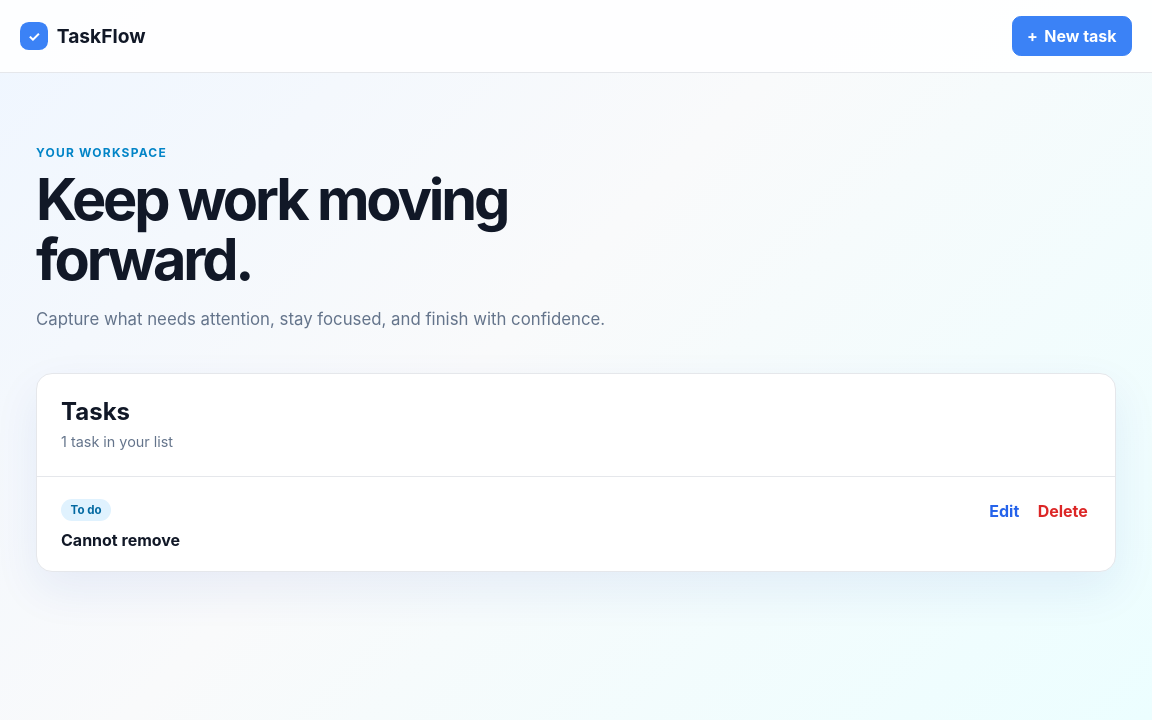
App › reports a failed delete and keeps the task visible
Expected: the heading "Cannot remove" is shown, [61,530,180,550]
Click the button "Delete".
click(1063, 512)  # box [1034,498,1091,525]
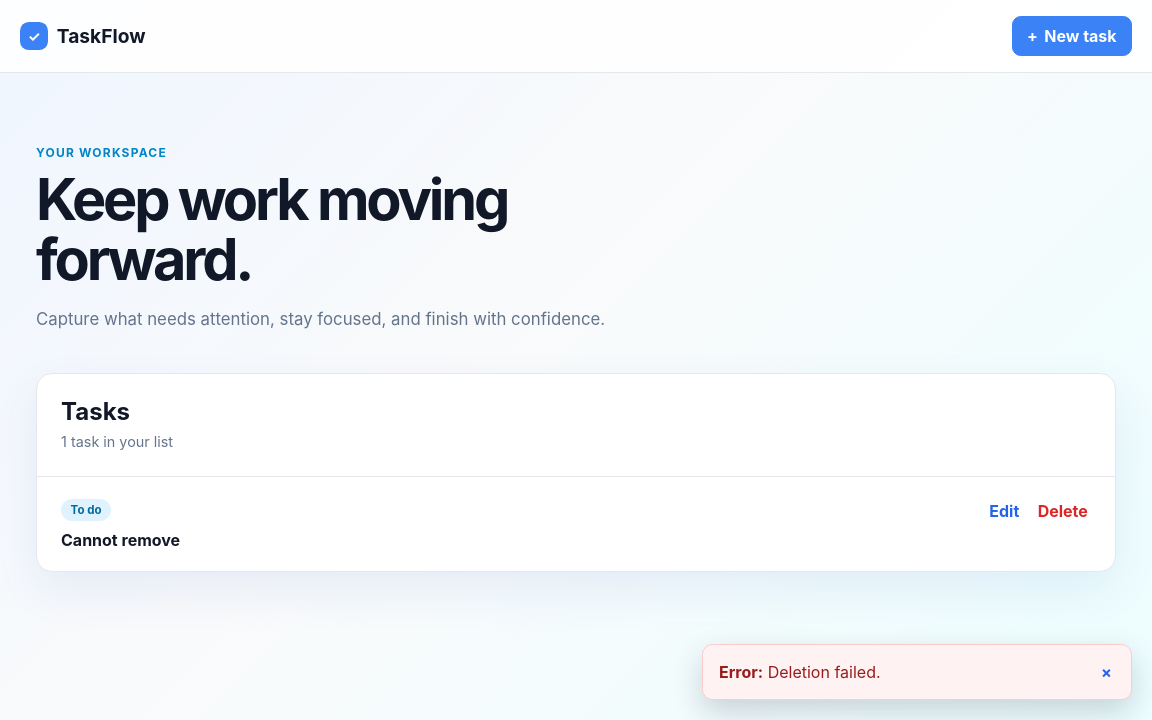
Expected: the heading "Cannot remove" is shown, [61,530,180,550]
Expected: the text "Deletion failed." is shown, [768,662,881,682]
